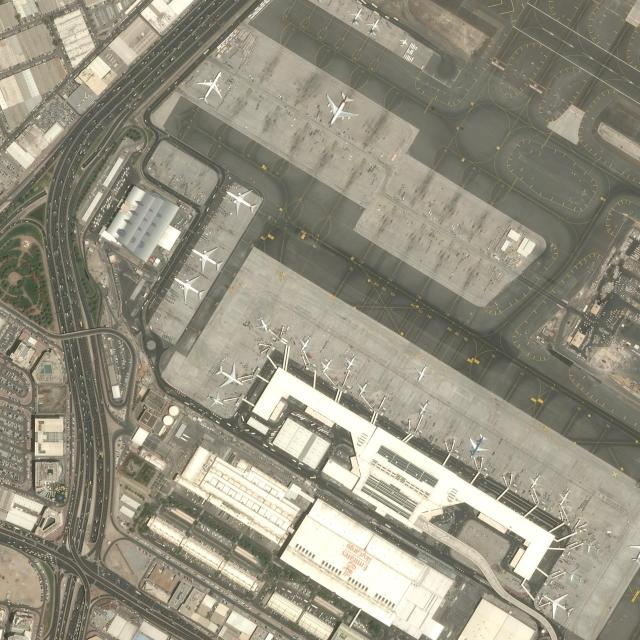1: (629, 542, 640, 564)
aircraft: (324, 89, 358, 125), (225, 187, 257, 216), (190, 246, 224, 273), (196, 70, 223, 103), (173, 274, 205, 300), (541, 591, 573, 617), (214, 361, 242, 387), (468, 432, 488, 456), (564, 566, 584, 582), (582, 538, 601, 554), (557, 486, 572, 506), (348, 7, 363, 26), (206, 391, 223, 407), (256, 314, 271, 332), (366, 18, 381, 36), (528, 471, 542, 490), (415, 363, 429, 381), (344, 352, 358, 369), (299, 335, 313, 351), (319, 357, 333, 373), (356, 379, 370, 395), (416, 398, 430, 414), (399, 38, 407, 48)
